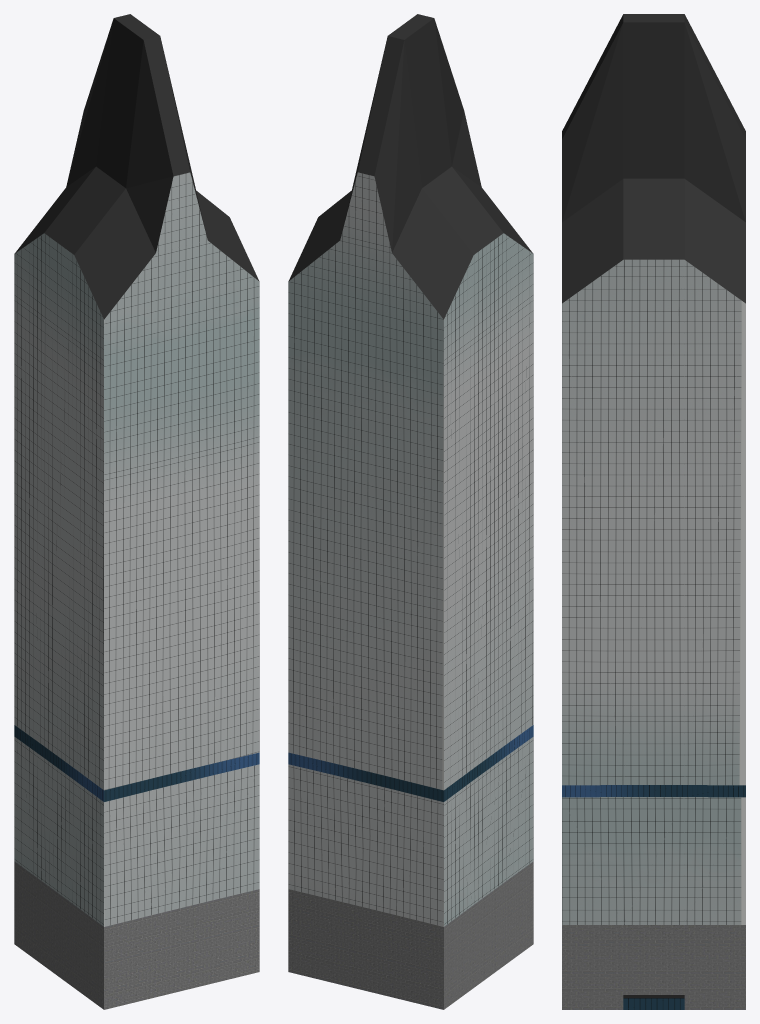
Rendered from SKYSCRAPER_3.fbx.
The picture shows the model from 3 angles, left to right: view 1: azimuth 30°, elevation 25°; view 2: azimuth 150°, elevation 25°; view 3: azimuth 270°, elevation 25°; orthographic projection. The views are drawn at different scales.
Parts seen in each view (by area): view 1: Skyscraper3; view 2: Skyscraper3; view 3: Skyscraper3.
Boxes of the visible parts, x1,y1,x2,y2 form: Skyscraper3: [14, 14, 259, 1009]; Skyscraper3: [288, 14, 533, 1009]; Skyscraper3: [562, 14, 745, 1009].
Size of the model in its own units: 1118 by 6397 by 1118.
Materials: 2 (2 with a texture image).
